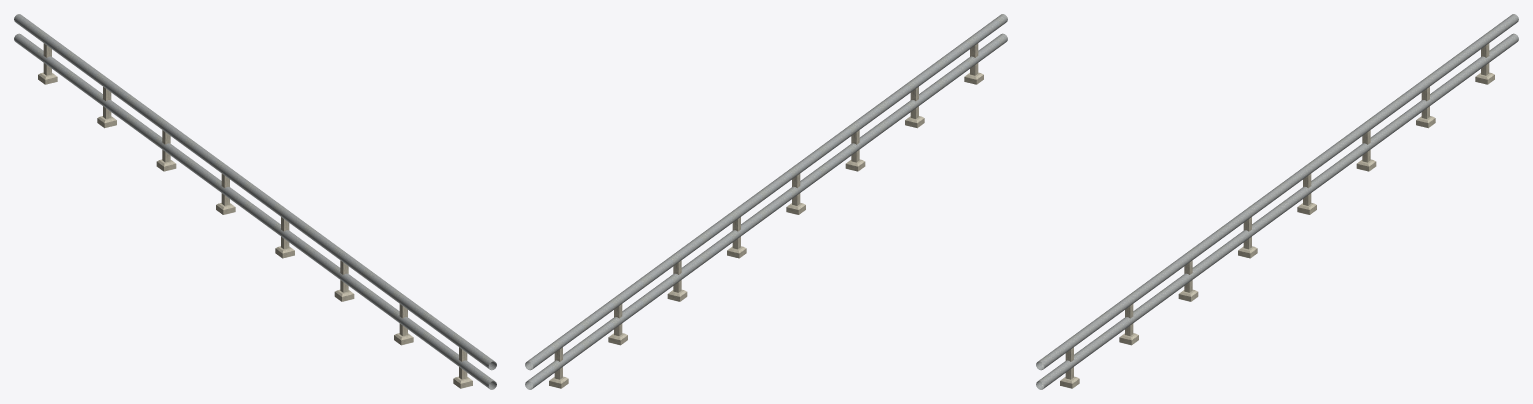
File: GSDRailing6-20M-Double.FBX
3 views of the same model, side by side, from view 1: azimuth 30°, elevation 25°; view 2: azimuth 150°, elevation 25°; view 3: azimuth 330°, elevation 25° (orthographic).
Parts seen in each view (by area): view 1: GSDRailing6-20M-Double; view 2: GSDRailing6-20M-Double; view 3: GSDRailing6-20M-Double.
Boxes of the visible parts, x1,y1,x2,y2 form: GSDRailing6-20M-Double: [14, 14, 496, 389]; GSDRailing6-20M-Double: [525, 14, 1007, 389]; GSDRailing6-20M-Double: [1036, 14, 1518, 389].
Size of the model in its own units: 0.3 by 1.04 by 20.
